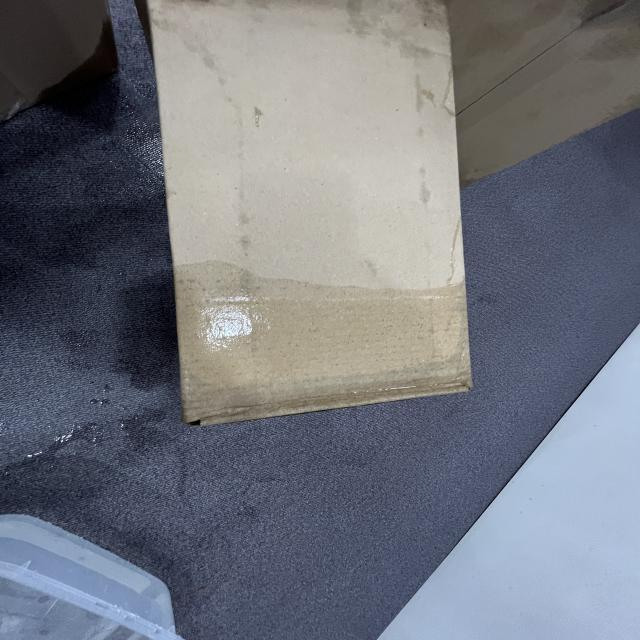wet: (160, 255, 490, 437)
